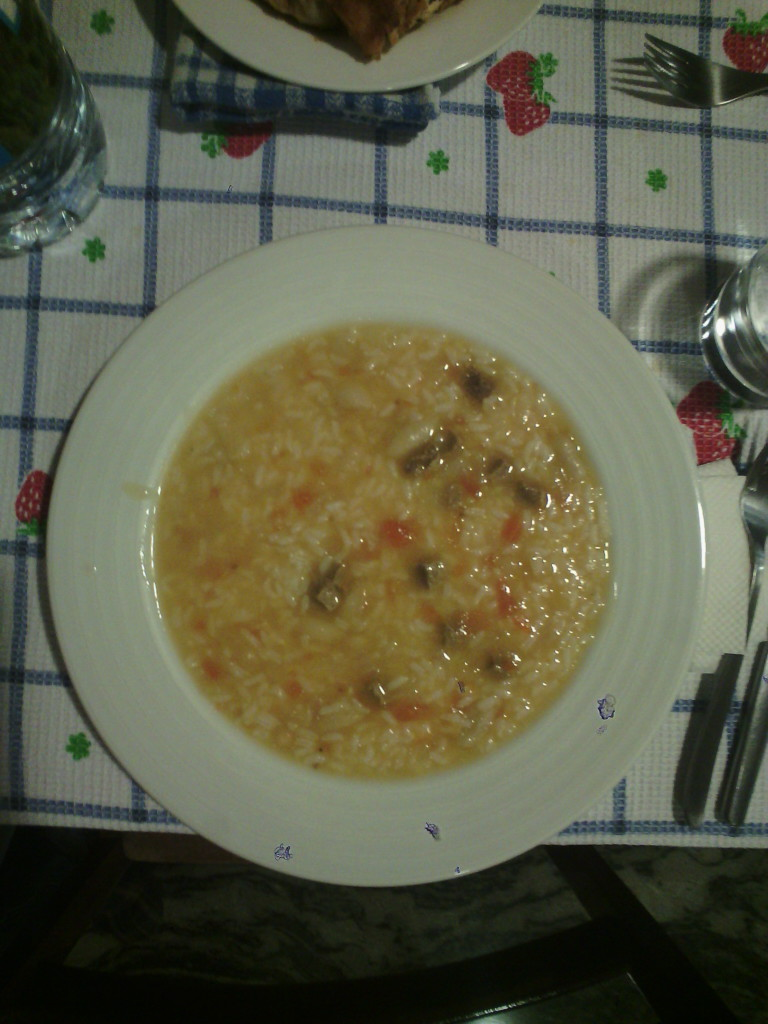81-100: (49, 230, 709, 888)
